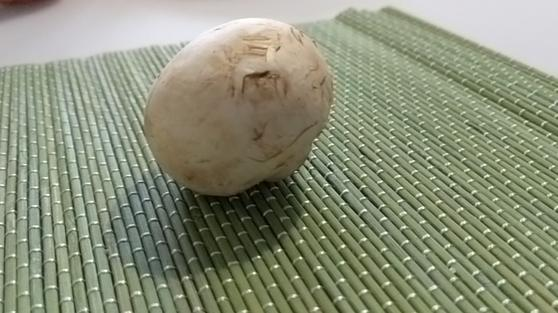champignon: (144, 16, 333, 197)
